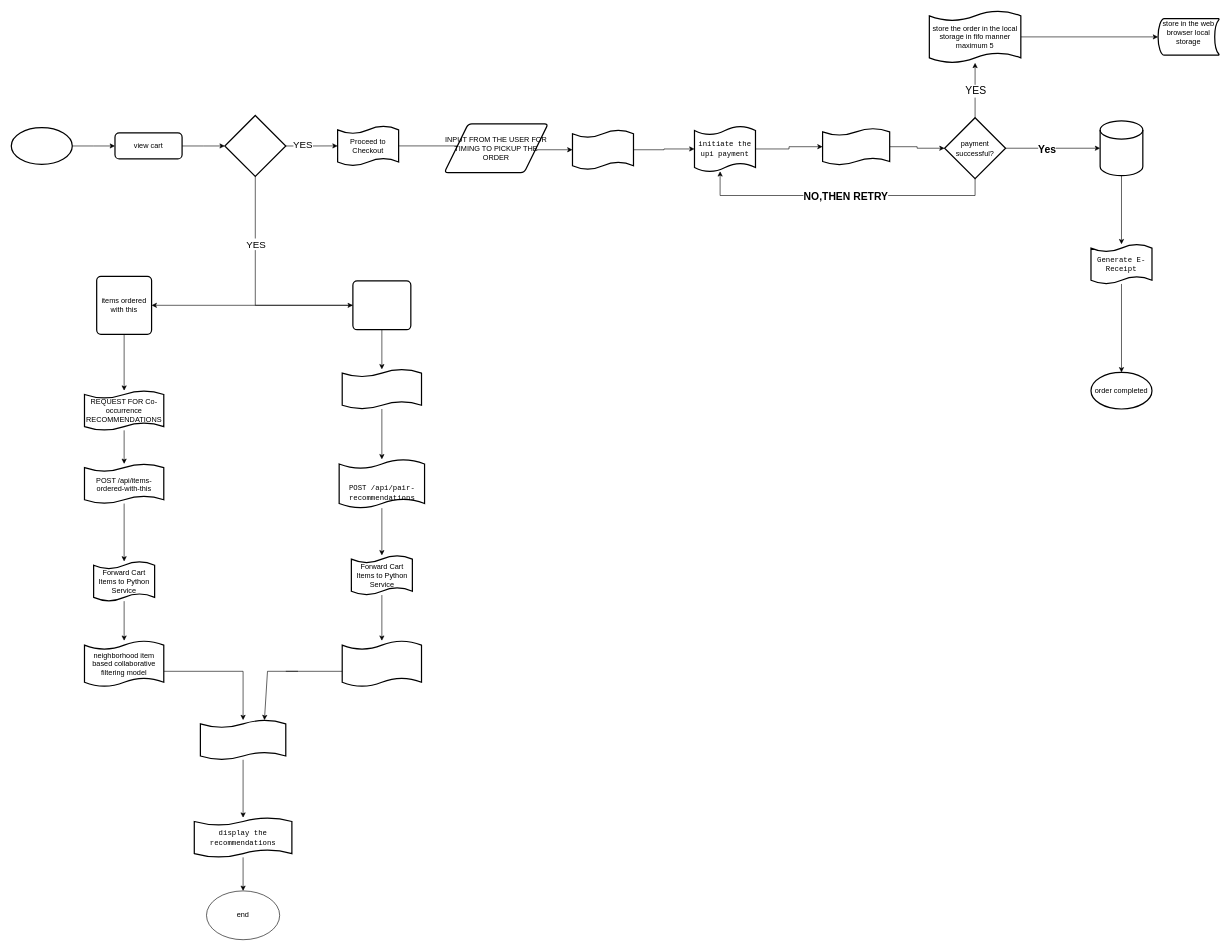
Some shapes in this 1230 by 950 pixel diagram are drawn without their labels. Each missing label, with the box of its shape:
ARE ITEMS PRESENT IN THE CART: (224, 115, 286, 177)
Confirm Payment (Node Backend): (822, 127, 890, 165)
Pair Recommendation Rule Engine (Python): (341, 640, 422, 687)
Pair Recommendations: (352, 280, 411, 330)
REQUEST FOR pairing RECOMMENDATIONS: (341, 368, 422, 409)
Review Order: (572, 129, 634, 170)
Send Recommendations to Frontend: (199, 719, 286, 760)
Store Order Details (MongoDB): (1099, 120, 1143, 176)
USER: (10, 127, 73, 165)
